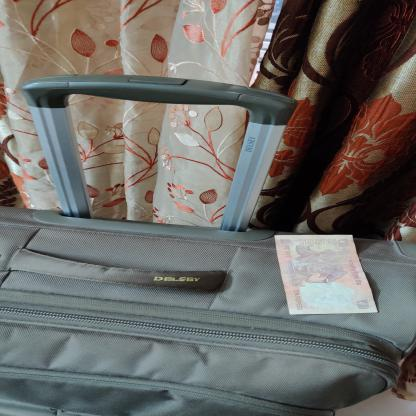Old10Back: (272, 234, 383, 315)
